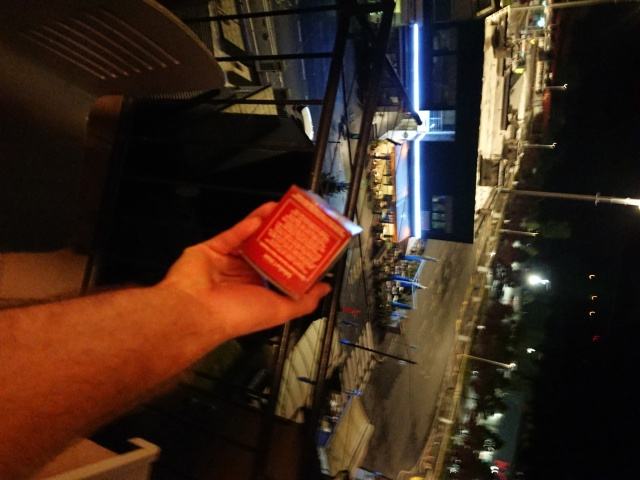Franck Apple Cinnamon Tea 60g: (233, 181, 366, 305)
